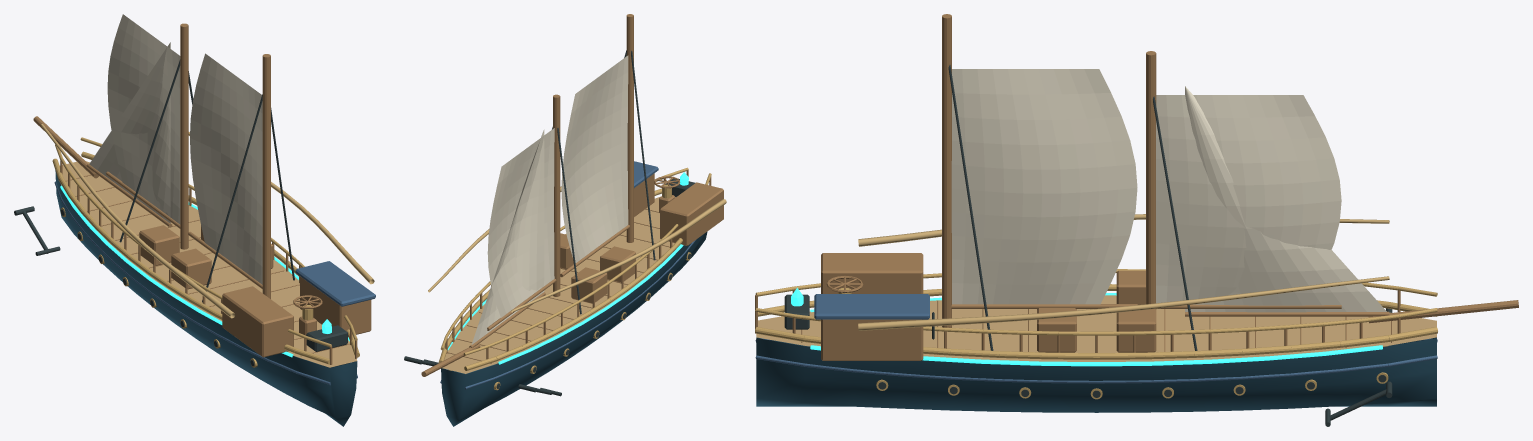
File: premium_royal_schooner.glb
3 renders of one model, left to right at view 1: azimuth 30°, elevation 25°; view 2: azimuth 150°, elevation 25°; view 3: azimuth 270°, elevation 25°, orthographic. The views are drawn at different scales.
Visible parts, largest first — view 1: premium_royal_schooner; view 2: premium_royal_schooner; view 3: premium_royal_schooner.
Boxes of the visible parts, left/top/right/bottom form: premium_royal_schooner: left=14, top=14, right=375, bottom=426; premium_royal_schooner: left=404, top=14, right=726, bottom=426; premium_royal_schooner: left=755, top=14, right=1518, bottom=426.
Size of the model in its own units: 4.05 by 7.6 by 13.47.
